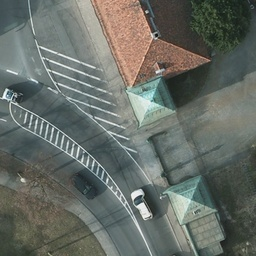car: (129, 187, 153, 221), (70, 170, 96, 198), (1, 88, 22, 105)
